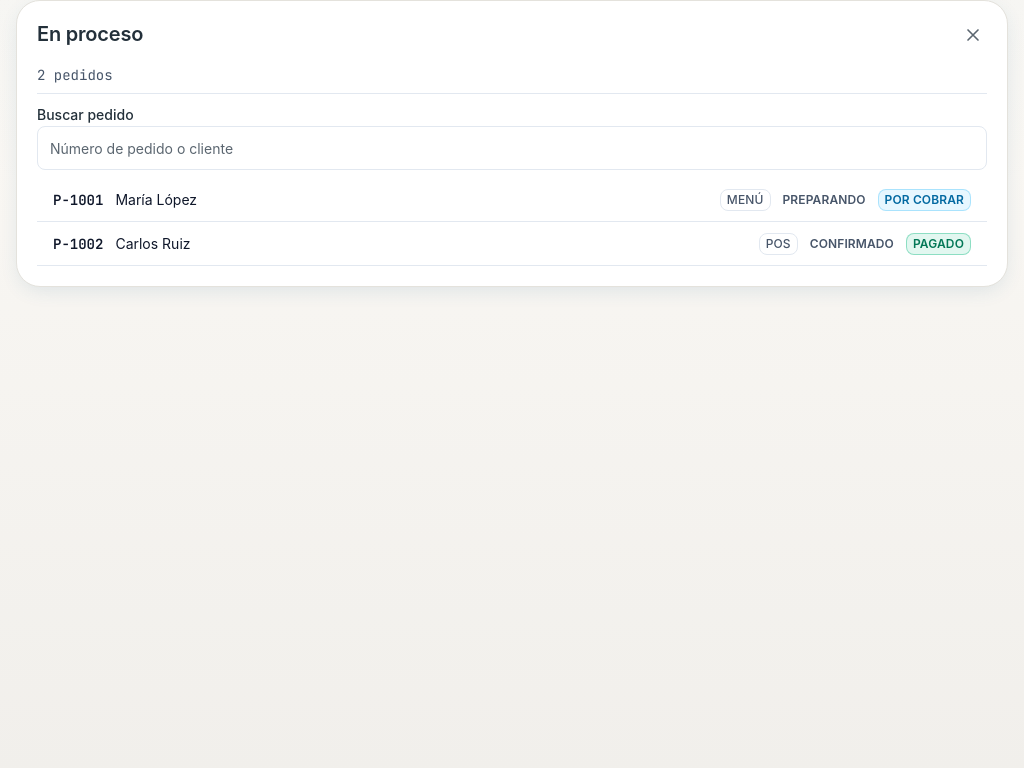
Scenario: PosOperationalPanel › busca por nombre del cliente, sin importar mayúsculas
Step 1. Type "maría" into the field labelled "Buscar pedido" → (512, 148), box [37,126,987,170]
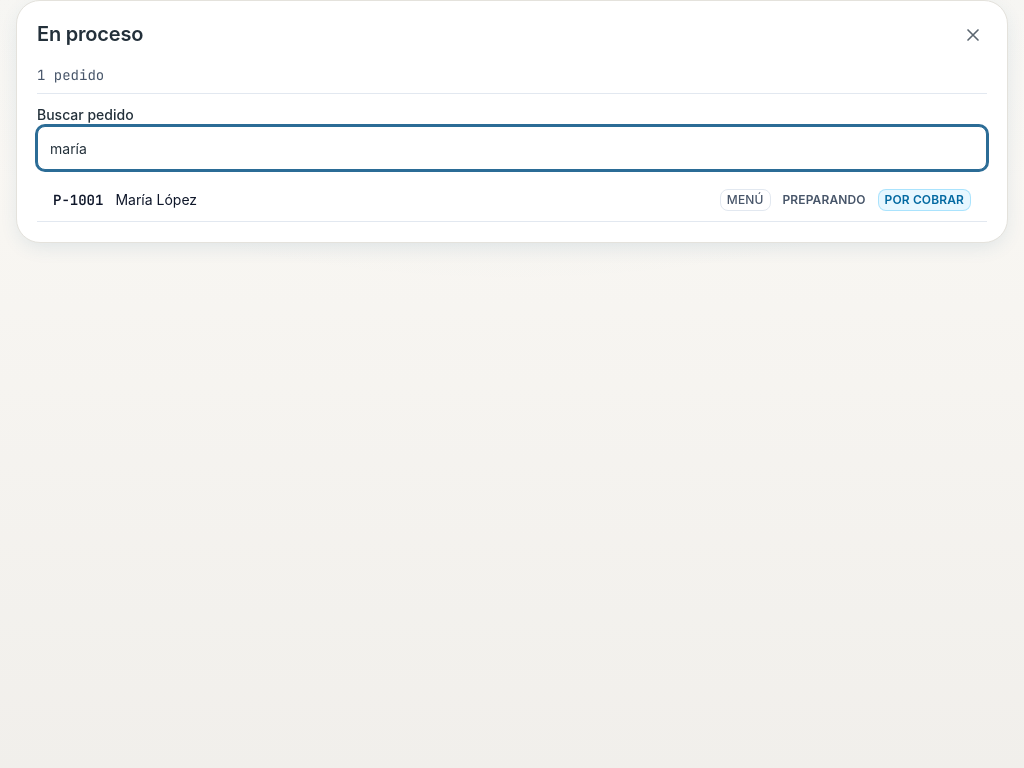
Expected: the text "María López" is shown, [115,190,197,208]
Expected: the number of buttons with test id "pos-operational-row" is 1, [37,178,987,222]
Expected: the button "Carlos Ruiz" is gone
